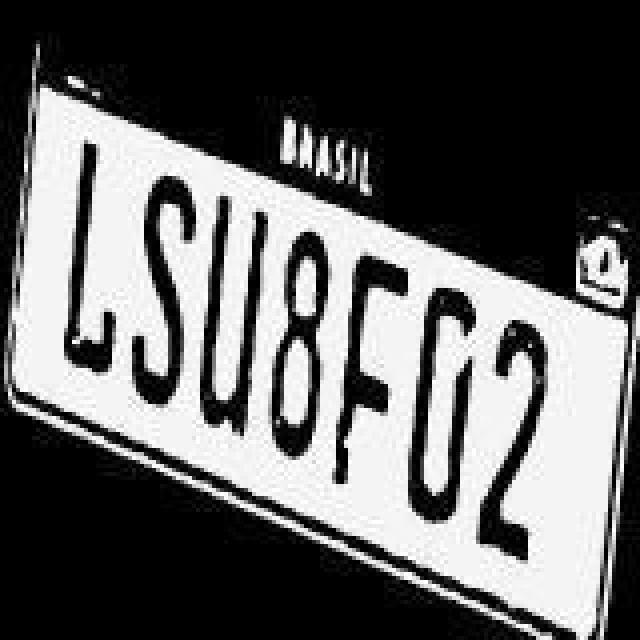2: (476, 318, 564, 562)
8: (260, 228, 332, 460)
D: (402, 284, 478, 524)
F: (318, 252, 410, 484)
L: (54, 140, 122, 372)
S: (124, 172, 196, 404)
U: (194, 194, 270, 438)
